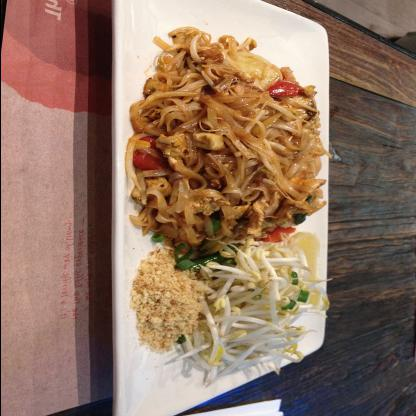Laadna: (105, 32, 334, 382)
